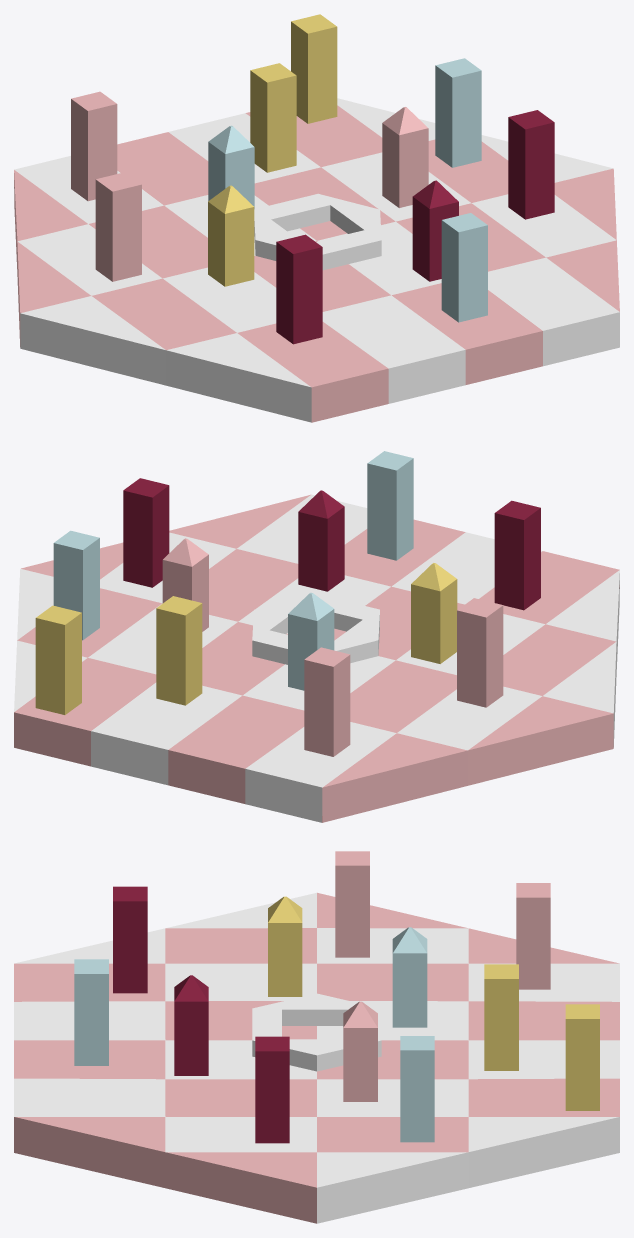
The model's file is plathor.glb.
3 views of the same model, one above another, from view 1: azimuth 30°, elevation 25°; view 2: azimuth 150°, elevation 25°; view 3: azimuth 270°, elevation 25° (orthographic).
Visible parts, largest first — view 1: Cube.001; view 2: Cube.001; view 3: Cube.001.
Part boxes in pixels (<box>): Cube.001: <box>14,14,619,422</box>; Cube.001: <box>14,451,619,822</box>; Cube.001: <box>14,851,619,1223</box>.
Bounding box in the file's own units: 2.36 × 0.4791 × 2.05.
